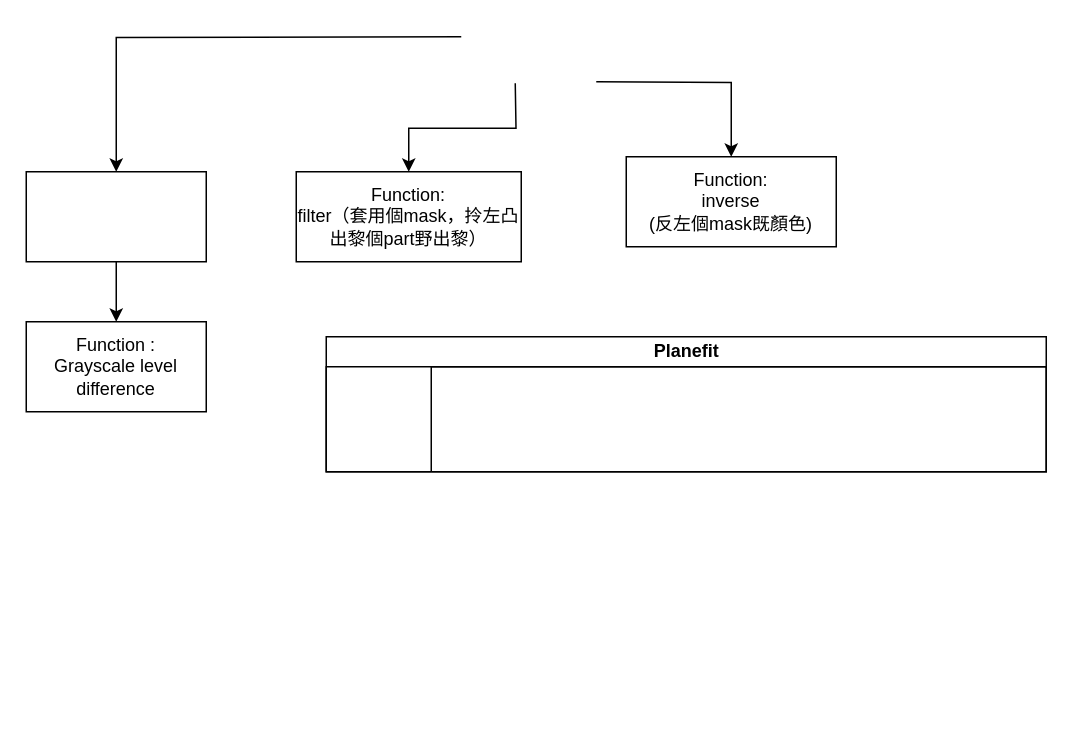
The diagram is 1073 pixels wide and 735 high, and some of its shapes have lost their labels. Each missing label, with the centre of its shape:
1.CV既partition function去分區 2.如果該point 上下左右全部大過threshold 先繼續，廢事個mean 低得濟: [685,418]
Function: Planefit: [115,216]
